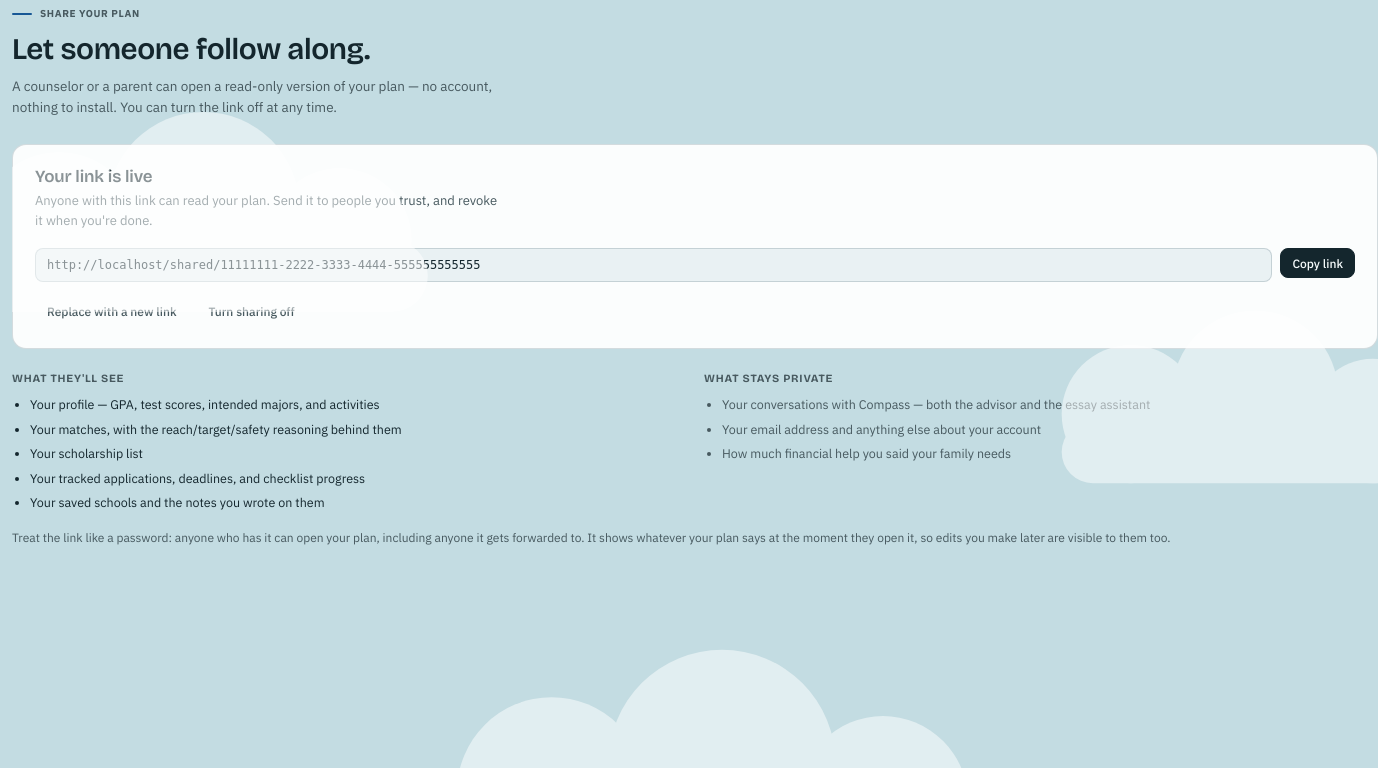
Test case: when a link exists › revokes without ceremony
Click the button "Turn sharing off". click: (252, 311)
box: [196,296,307,326]
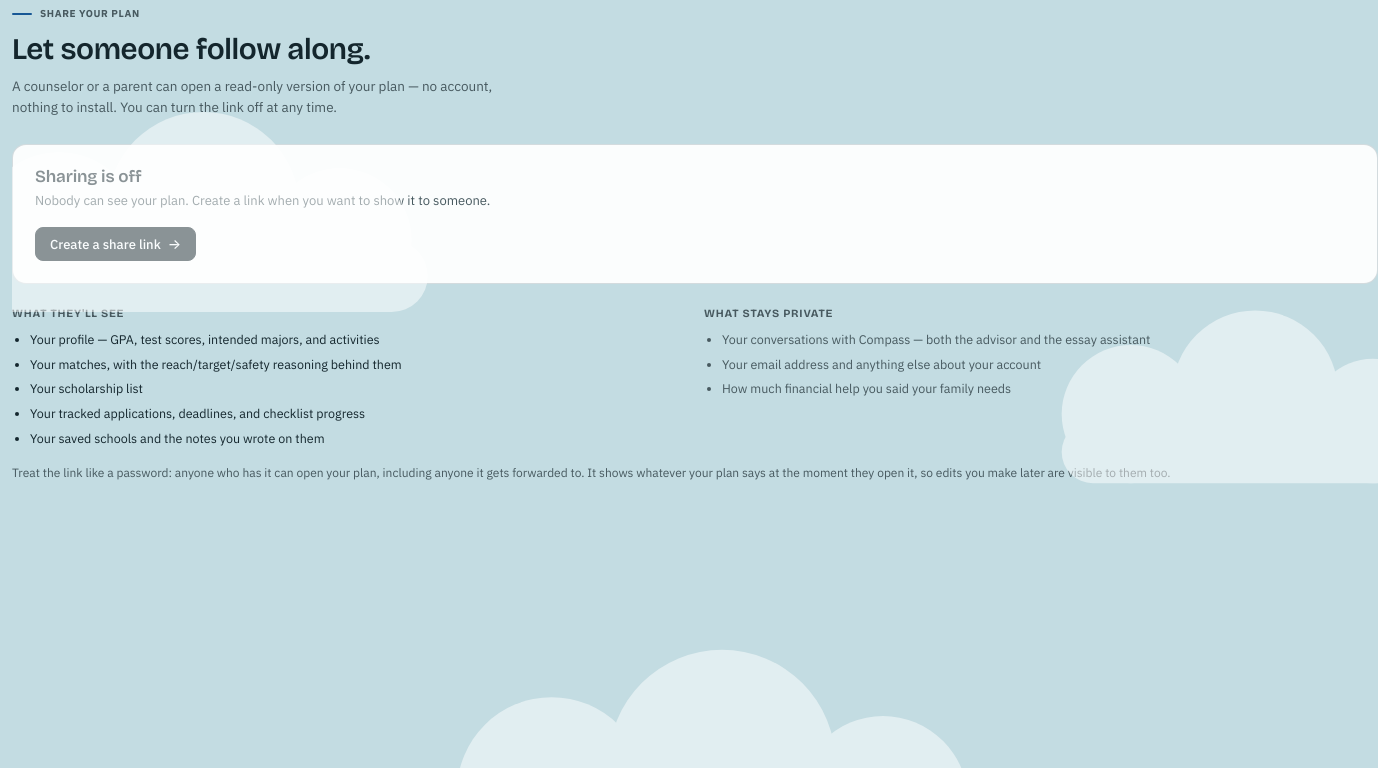
Expected: the heading "Sharing is off" is shown, [35,166,142,187]
